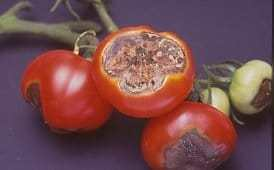blossom_rotw: (106, 34, 192, 106)
